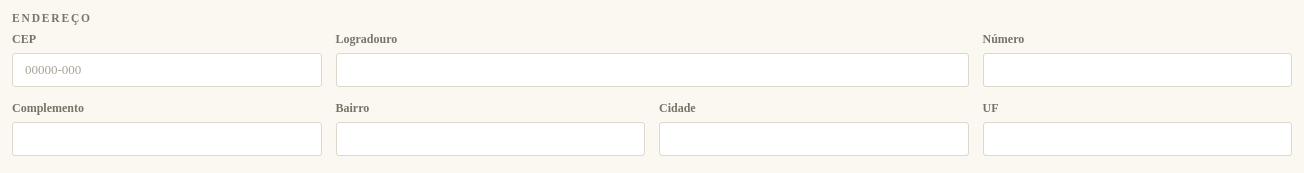
Test: AddressFields — autocomplete de CEP › atualiza o endereço na segunda busca, não só na primeira
Type "74115060" into the field labelled "CEP" at (167,70), box [12,53,322,87]
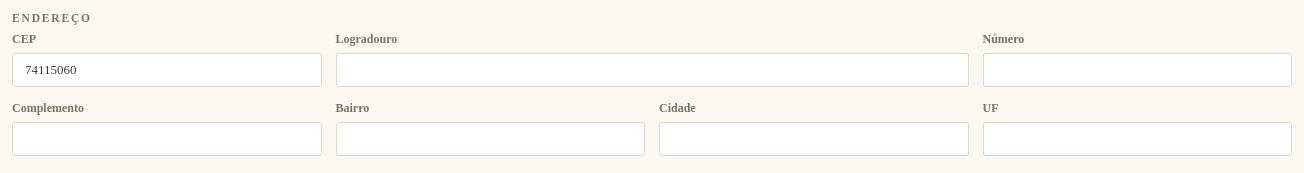
Leave the field labelled "CEP", box [12,53,322,87]
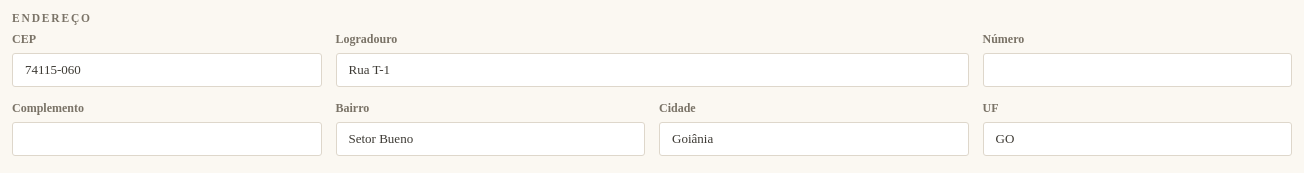
Result: the field labelled "Logradouro" holds "Rua T-1" at [336,53,968,87]
Result: the field labelled "Bairro" holds "Setor Bueno" at [336,122,645,156]
Result: the field labelled "Cidade" holds "Goiânia" at [659,122,968,156]
Replace the text in the field labelled "CEP" with "01310100" at (167,70), box [12,53,322,87]
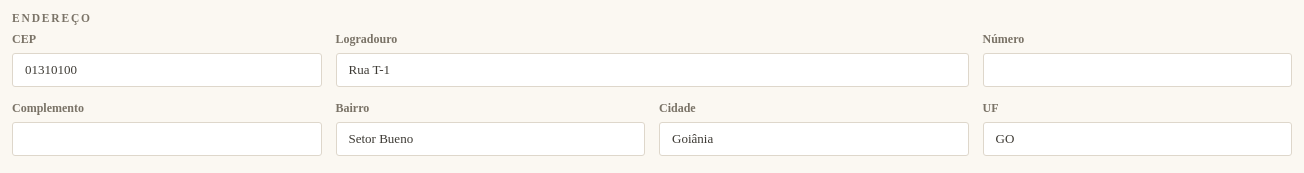
Leave the field labelled "CEP", box [12,53,322,87]
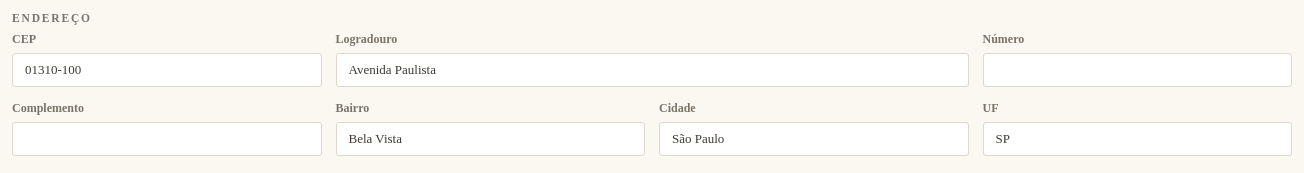
Result: the field labelled "Logradouro" holds "Avenida Paulista" at [336,53,968,87]
Result: the field labelled "Bairro" holds "Bela Vista" at [336,122,645,156]
Result: the field labelled "Cidade" holds "São Paulo" at [659,122,968,156]
